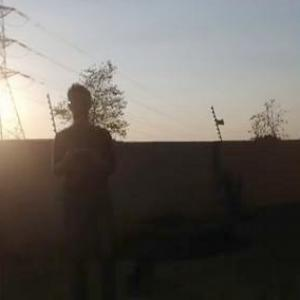follow: (49, 77, 124, 299)
